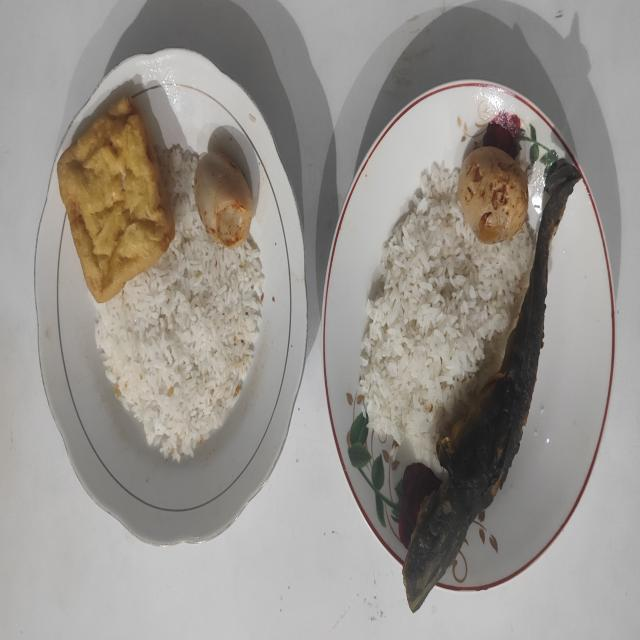nasi_putih: (95, 146, 265, 462), (360, 164, 534, 468)
tahu_goreng: (58, 99, 174, 302)
